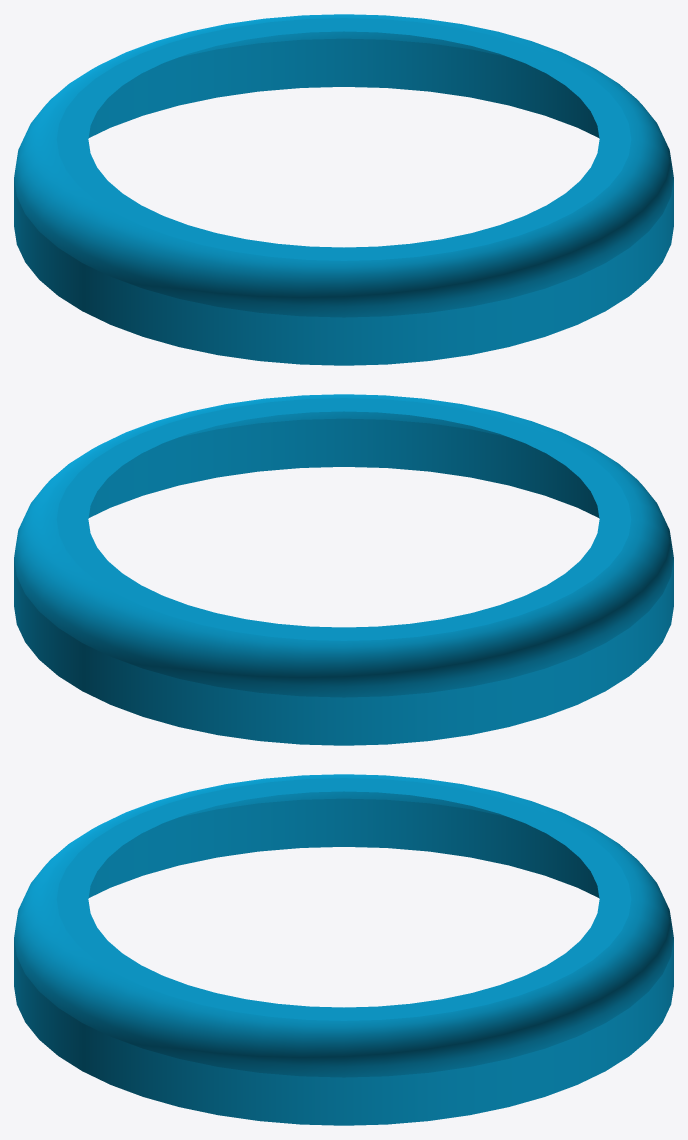
File: original-60.obj
The picture shows the model from 3 angles, top to bottom: view 1: azimuth 30°, elevation 25°; view 2: azimuth 150°, elevation 25°; view 3: azimuth 270°, elevation 25°; orthographic projection.
Parts seen in each view (by area): view 1: #ID510; view 2: #ID510; view 3: #ID510.
Boxes of the visible parts, x1,y1,x2,y2 form: #ID510: (14, 14, 673, 365); #ID510: (14, 394, 673, 745); #ID510: (14, 774, 673, 1125).
Bounding box in the file's own units: 0.0423 × 0.00615 × 0.0423.
